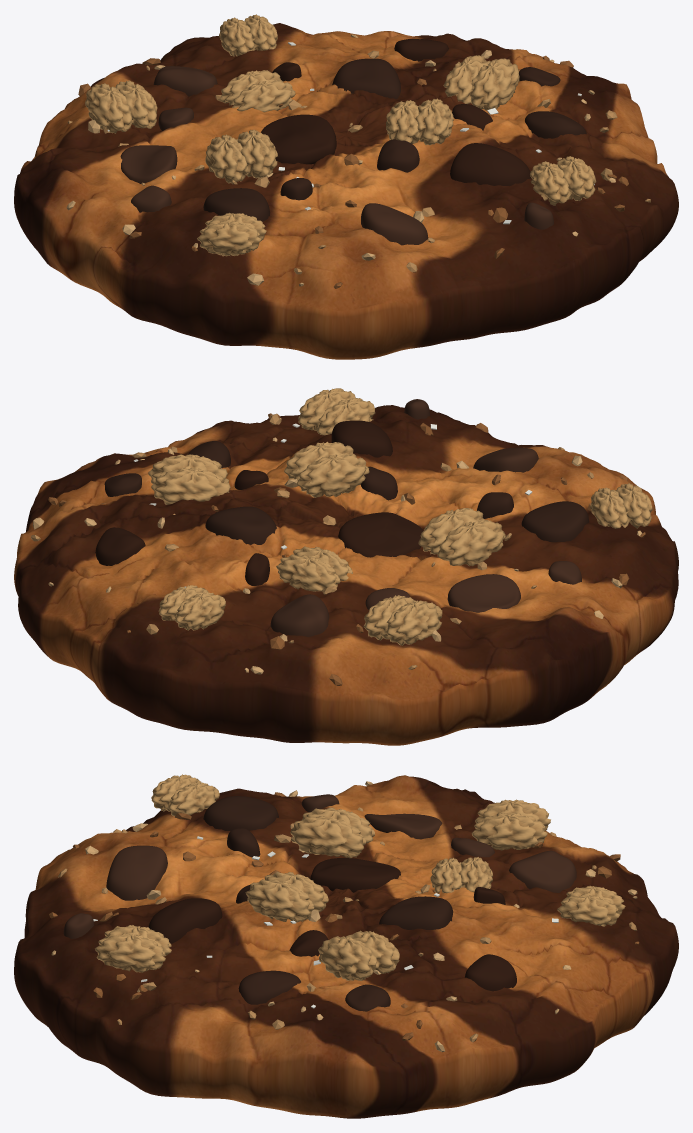
File: smule-cookie-marble-walnut.glb
The picture shows the model from 3 angles, top to bottom: view 1: azimuth 30°, elevation 25°; view 2: azimuth 150°, elevation 25°; view 3: azimuth 270°, elevation 25°; orthographic projection. The views are drawn at different scales.
Visible parts, largest first — view 1: Dough_BakedSurface.001, Crumbs_Detail.001, Story_Walnut_02, Story_Walnut_05, Story_Walnut_00, Story_ChocolatePiece_05, Story_ChocolatePiece_02, Story_Walnut_01, Story_Walnut_04, Story_Walnut_03, Story_Walnut_06, Story_ChocolatePiece_06 (+14 smaller); view 2: Dough_BakedSurface.001, Story_Walnut_00, Story_Walnut_01, Crumbs_Detail.001, Story_Walnut_02, Story_ChocolatePiece_05, Story_Walnut_05, Story_Walnut_03, Story_Walnut_04, Story_Walnut_07, Story_Walnut_06, Story_ChocolatePiece_04 (+12 smaller); view 3: Dough_BakedSurface.001, Crumbs_Detail.001, Story_Walnut_00, Story_Walnut_05, Story_Walnut_02, Story_Walnut_01, Story_Walnut_04, Story_ChocolatePiece_01, Story_ChocolatePiece_05, Story_ChocolatePiece_02, Story_ChocolatePiece_00, Story_Walnut_07 (+12 smaller).
Part boxes in pixels (left/top/right/bottom): Dough_BakedSurface.001: left=14, top=23, right=678, bottom=359; Crumbs_Detail.001: left=66, top=34, right=650, bottom=288; Story_Walnut_02: left=443, top=55, right=519, bottom=110; Story_Walnut_05: left=85, top=80, right=157, bottom=133; Story_Walnut_00: left=205, top=129, right=277, bottom=183; Story_ChocolatePiece_05: left=261, top=114, right=336, bottom=164; Story_ChocolatePiece_02: left=450, top=143, right=531, bottom=186; Story_Walnut_01: left=386, top=98, right=453, bottom=145; Story_Walnut_04: left=530, top=156, right=596, bottom=205; Story_Walnut_03: left=220, top=70, right=295, bottom=112; Story_Walnut_06: left=197, top=212, right=266, bottom=256; Story_ChocolatePiece_06: left=332, top=58, right=400, bottom=98; Dough_BakedSurface.001: left=14, top=405, right=678, bottom=745; Story_Walnut_00: left=418, top=508, right=505, bottom=566; Story_Walnut_01: left=284, top=441, right=369, bottom=497; Crumbs_Detail.001: left=31, top=413, right=647, bottom=685; Story_Walnut_02: left=148, top=454, right=230, bottom=504; Story_ChocolatePiece_05: left=338, top=512, right=423, bottom=557; Story_Walnut_05: left=363, top=595, right=442, bottom=645; Story_Walnut_03: left=276, top=546, right=352, bottom=591; Story_Walnut_04: left=298, top=388, right=375, bottom=435; Story_Walnut_07: left=158, top=585, right=225, bottom=630; Story_Walnut_06: left=590, top=483, right=652, bottom=528; Story_ChocolatePiece_04: left=447, top=574, right=520, bottom=612; Dough_BakedSurface.001: left=14, top=775, right=678, bottom=1118; Crumbs_Detail.001: left=49, top=781, right=639, bottom=1052; Story_Walnut_00: left=290, top=807, right=374, bottom=858; Story_Walnut_05: left=471, top=799, right=550, bottom=850; Story_Walnut_02: left=318, top=930, right=399, bottom=980; Story_Walnut_01: left=245, top=871, right=328, bottom=922; Story_Walnut_04: left=95, top=925, right=171, bottom=972; Story_ChocolatePiece_01: left=106, top=845, right=167, bottom=900; Story_ChocolatePiece_05: left=310, top=858, right=400, bottom=892; Story_ChocolatePiece_02: left=148, top=898, right=222, bottom=943; Story_ChocolatePiece_00: left=203, top=796, right=278, bottom=830; Story_Walnut_07: left=557, top=885, right=625, bottom=926.
Bounding box in the file's own units: 4.99 × 1.09 × 4.98.
Materials: 10 (2 with a texture image).
